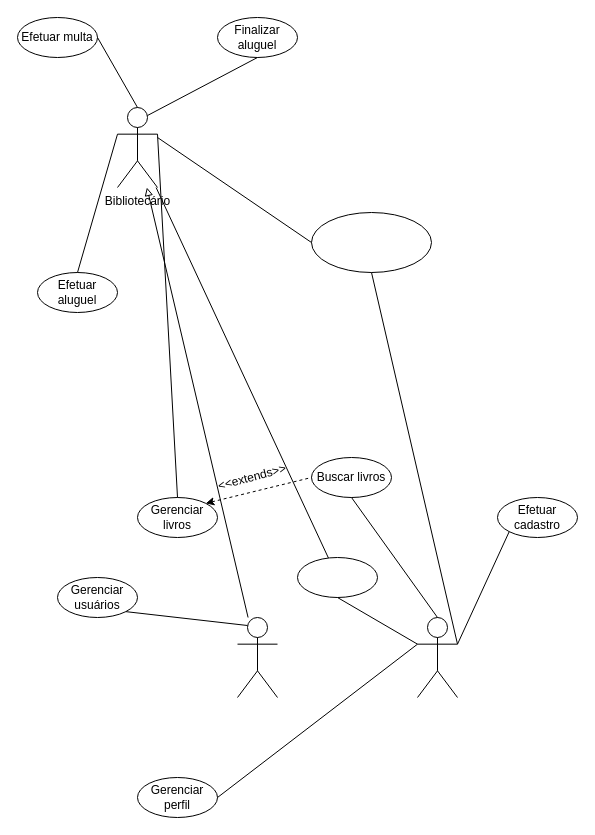
This 595x835 diagram has some shape labels left out. Each missing label, with the centre of its shape:
Administrador: the point at 257,657
Cliente: the point at 437,657
Comentar: the point at 371,242
Efetuar login: the point at 337,577
